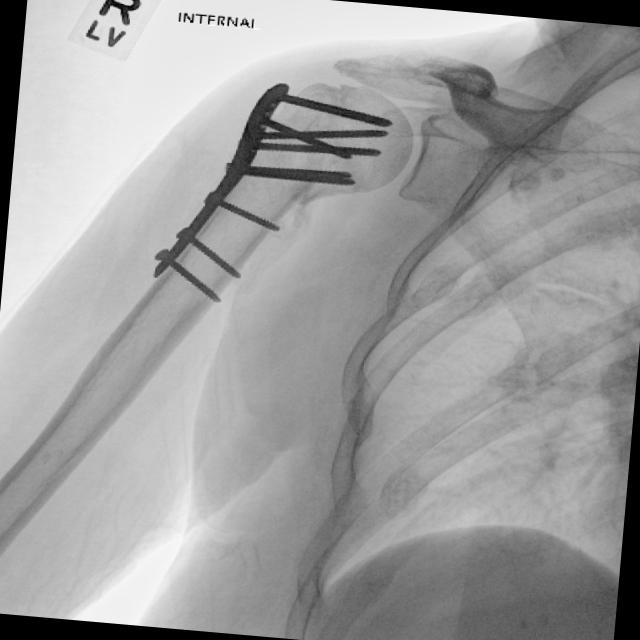shoulder fracture: (256, 160, 341, 234)
